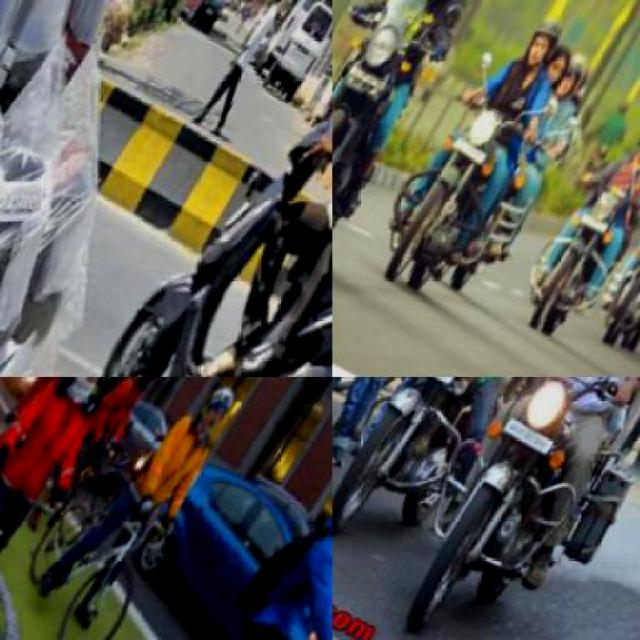With Helmet: (186, 377, 252, 448), (512, 16, 571, 84), (549, 49, 596, 108), (61, 377, 137, 408), (126, 377, 174, 406), (628, 111, 638, 174)
Without Helmet: (535, 32, 582, 93)
